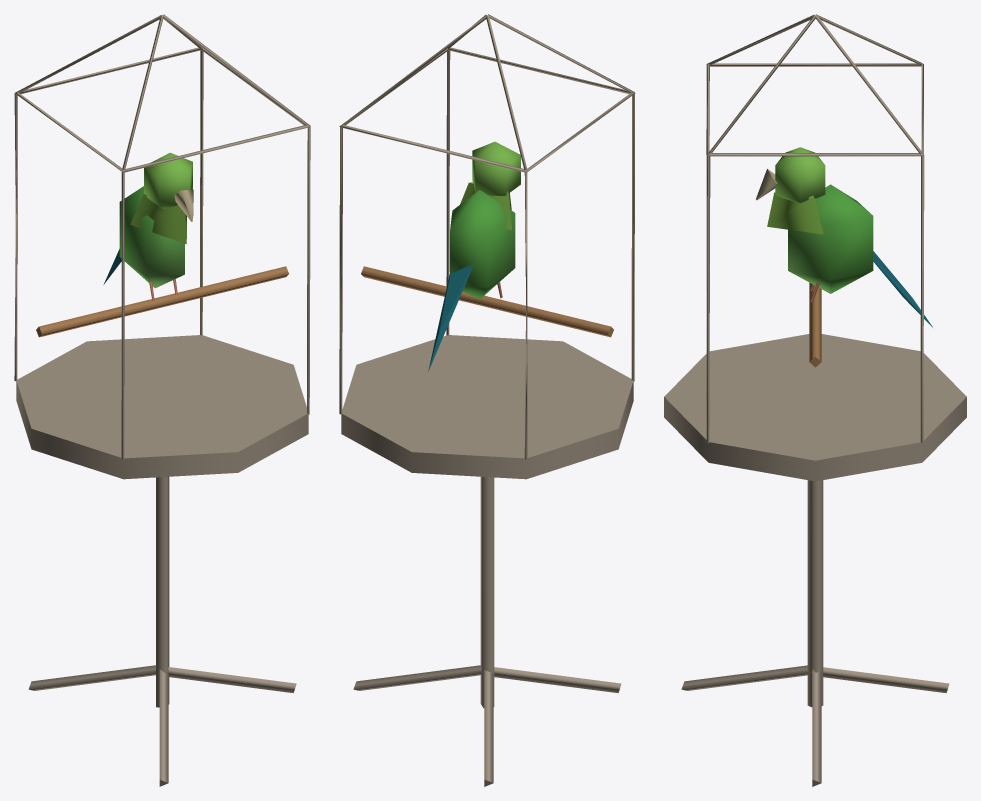
File: parrot_caged_lod.glb
3 renders of one model, left to right at view 1: azimuth 30°, elevation 25°; view 2: azimuth 150°, elevation 25°; view 3: azimuth 270°, elevation 25°, orthographic.
Parts seen in each view (by area): view 1: parrot_caged_lod_galvanised, parrot_caged_lod_fur; view 2: parrot_caged_lod_galvanised, parrot_caged_lod_fur; view 3: parrot_caged_lod_galvanised, parrot_caged_lod_fur.
Boxes of the visible parts, x1,y1,x2,y2 form: parrot_caged_lod_galvanised: [14, 14, 310, 786]; parrot_caged_lod_fur: [36, 152, 288, 337]; parrot_caged_lod_galvanised: [339, 14, 635, 786]; parrot_caged_lod_fur: [361, 141, 613, 371]; parrot_caged_lod_galvanised: [664, 14, 966, 786]; parrot_caged_lod_fur: [756, 147, 932, 367].
Size of the model in its own units: 0.7041 by 1.81 by 0.7.
